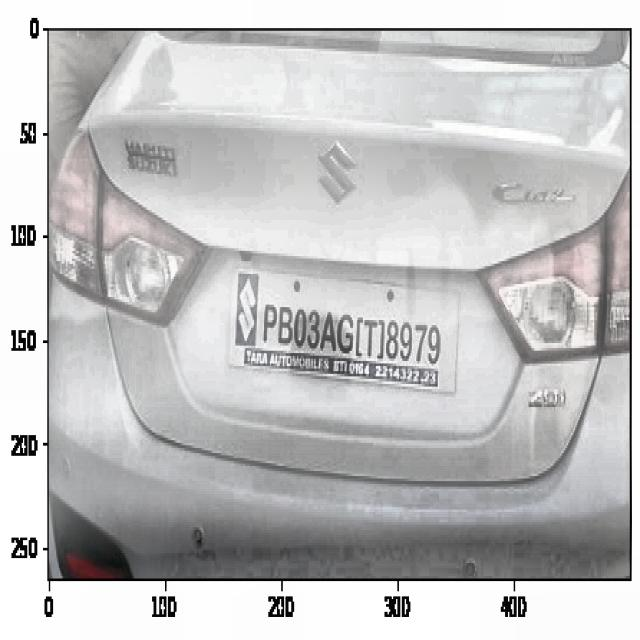license_plate: (260, 292, 448, 370)
